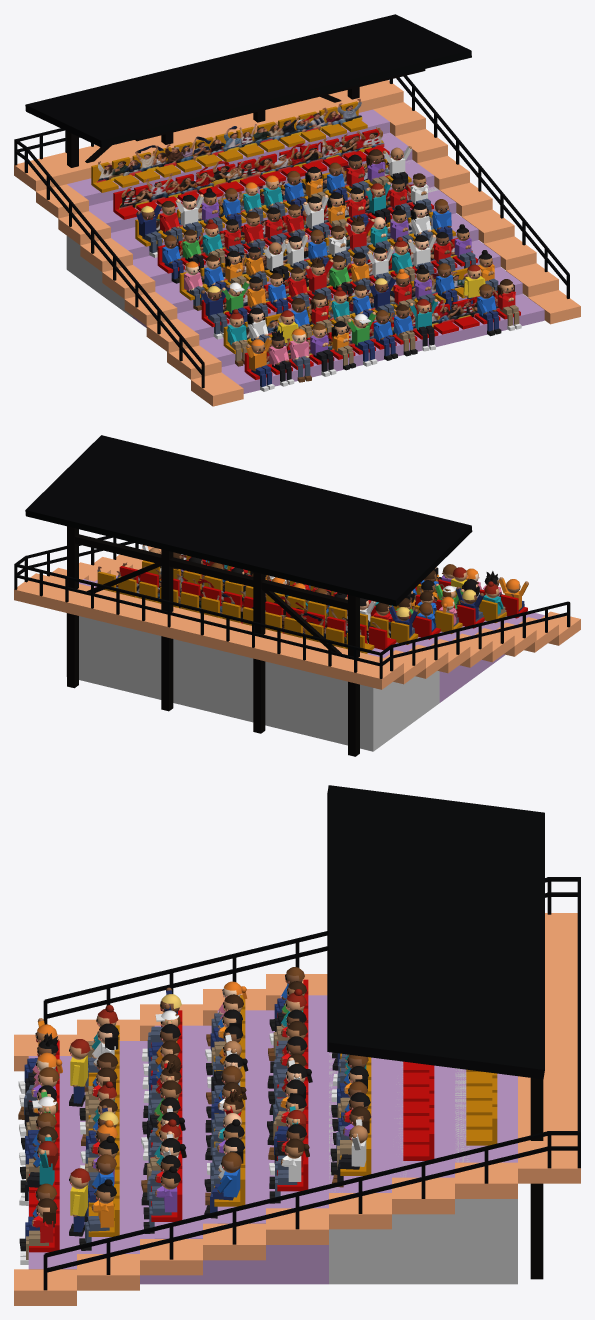
Rendered from Gradas_Estadio_Texturizadas.obj.
The picture shows the model from 3 angles, top to bottom: view 1: azimuth 30°, elevation 25°; view 2: azimuth 150°, elevation 25°; view 3: azimuth 270°, elevation 25°; orthographic projection. The views are drawn at different scales.
Parts seen in each view (by area): view 1: Techo_color, piso, Material.002, Amarillo_Asientos.001, Amarillo_Asientos, PC_Pantalon_4c5972, publico_3, publico_4, PC_Ropa_d80f0f, PC_Ropa_2672d8, PC_Ropa_f7f7f7, PC_Piel_845638 (+23 smaller); view 2: Techo_color, Material.003, piso, Estructura, Amarillo_Asientos.001, Amarillo_Asientos, Material.002, PC_Pelo_110f0f, publico_3, publico_4, PC_Pelo_ea7a1e, PC_Ropa_1e2d66 (+2 smaller); view 3: Techo_color, Material.002, piso, Material.003, Amarillo_Asientos, Amarillo_Asientos.001, PC_Pantalon_4c5972, PC_Pelo_110f0f, PC_Pelo_382111, PC_Piel_845638, PC_Piel_e0a375, PC_Pantalon_263872 (+18 smaller).
Boxes of the visible parts, <box> form: Techo_color: <box>14,14,569,387</box>; piso: <box>14,80,580,406</box>; Material.002: <box>67,109,544,393</box>; Amarillo_Asientos.001: <box>91,101,493,353</box>; Amarillo_Asientos: <box>113,129,520,379</box>; PC_Pantalon_4c5972: <box>142,181,498,377</box>; publico_3: <box>119,127,472,316</box>; publico_4: <box>96,98,449,289</box>; PC_Ropa_d80f0f: <box>159,166,515,324</box>; PC_Ropa_2672d8: <box>162,173,496,340</box>; PC_Ropa_f7f7f7: <box>175,146,436,339</box>; PC_Piel_845638: <box>136,154,496,365</box>; Techo_color: <box>14,435,570,678</box>; Material.003: <box>66,613,439,751</box>; piso: <box>14,546,580,689</box>; Estructura: <box>67,526,359,756</box>; Amarillo_Asientos.001: <box>97,555,506,653</box>; Amarillo_Asientos: <box>119,560,527,650</box>; Material.002: <box>79,558,544,702</box>; PC_Pelo_110f0f: <box>188,557,498,606</box>; publico_3: <box>122,562,465,643</box>; publico_4: <box>97,564,449,648</box>; PC_Pelo_ea7a1e: <box>272,568,519,612</box>; PC_Ropa_1e2d66: <box>388,588,483,636</box>; Techo_color: <box>43,785,580,1290</box>; Material.002: <box>28,995,517,1284</box>; piso: <box>14,913,580,1305</box>; Material.003: <box>329,1053,517,1284</box>; Amarillo_Asientos: <box>29,979,434,1252</box>; Amarillo_Asientos.001: <box>88,995,497,1236</box>; PC_Pantalon_4c5972: <box>24,1013,350,1243</box>; PC_Pelo_110f0f: <box>38,1009,370,1197</box>; PC_Pelo_382111: <box>38,981,371,1227</box>; PC_Piel_845638: <box>32,973,368,1217</box>; PC_Piel_e0a375: <box>31,999,362,1226</box>; PC_Pantalon_263872: <box>24,998,349,1240</box>.
Bounding box in the file's own units: 14.5 × 6.97 × 13.5.
Materials: 44 (4 with a texture image).
